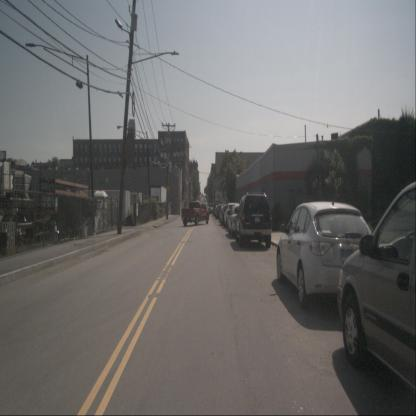vehicle-car: (336, 181, 416, 400), (276, 201, 374, 310), (235, 191, 272, 249), (228, 206, 249, 237), (223, 203, 242, 229), (221, 205, 233, 225), (219, 206, 229, 223), (216, 204, 226, 219), (214, 206, 221, 216), (208, 207, 214, 214)
vehicle-truck: (182, 201, 210, 226)
